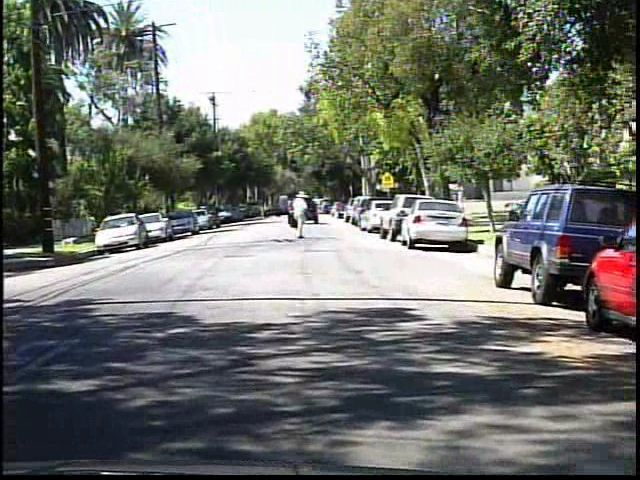person: (286, 191, 315, 242)
